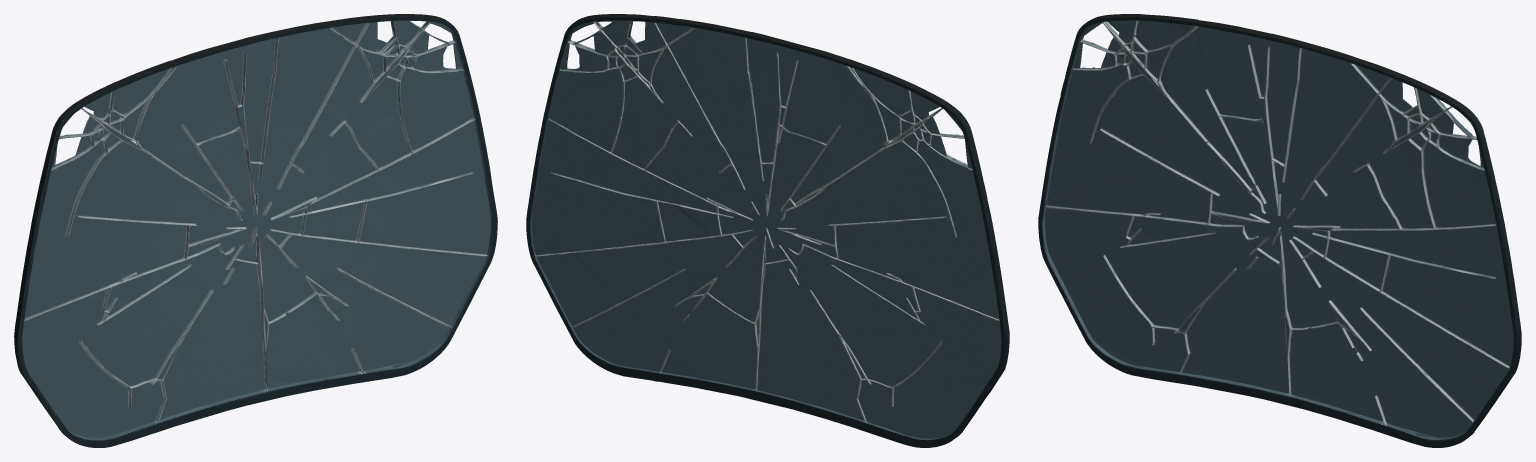
Rendered from cockpit_cracks.glb.
The picture shows the model from 3 angles, left to right: view 1: azimuth 30°, elevation 25°; view 2: azimuth 150°, elevation 25°; view 3: azimuth 330°, elevation 25°; orthographic projection.
Size of the model in its own units: 1.9 by 1.41 by 0.0294.
1 material, 1 textured.
